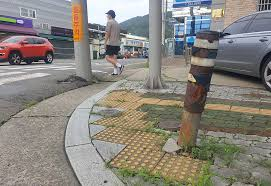guide_blocks: (93, 111, 207, 185), (149, 98, 271, 116), (98, 90, 145, 109)
